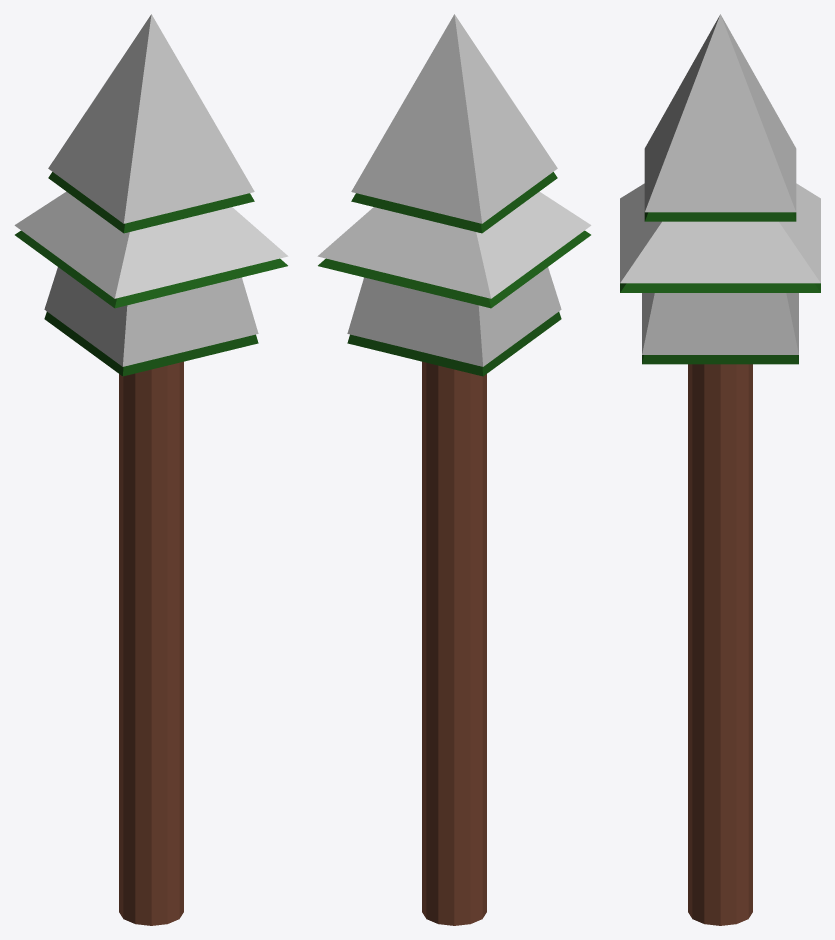
Rendered from Tree_15_winter_vc.fbx.
The picture shows the model from 3 angles, left to right: view 1: azimuth 30°, elevation 25°; view 2: azimuth 150°, elevation 25°; view 3: azimuth 270°, elevation 25°; orthographic projection.
Visible parts, largest first — view 1: Tree_15_winter_vc; view 2: Tree_15_winter_vc; view 3: Tree_15_winter_vc.
Part boxes in pixels (left/top/right/bottom): Tree_15_winter_vc: left=14, top=14, right=288, bottom=925; Tree_15_winter_vc: left=317, top=14, right=591, bottom=925; Tree_15_winter_vc: left=620, top=14, right=820, bottom=925.
Bounding box in the file's own units: 68.73 × 339 × 68.73.
